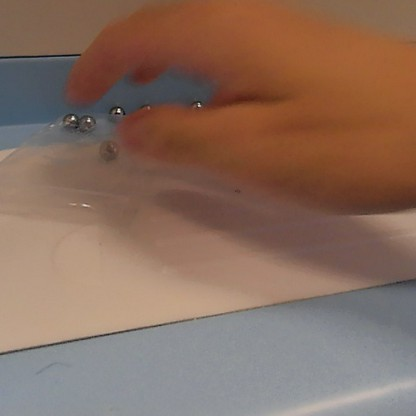ironball: (94, 136, 117, 162), (59, 111, 80, 131), (107, 105, 127, 125), (78, 112, 97, 133), (187, 97, 205, 111), (136, 101, 152, 111)
